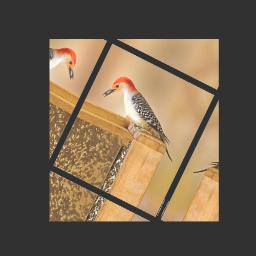Woodpecker: (90, 70, 197, 163)
